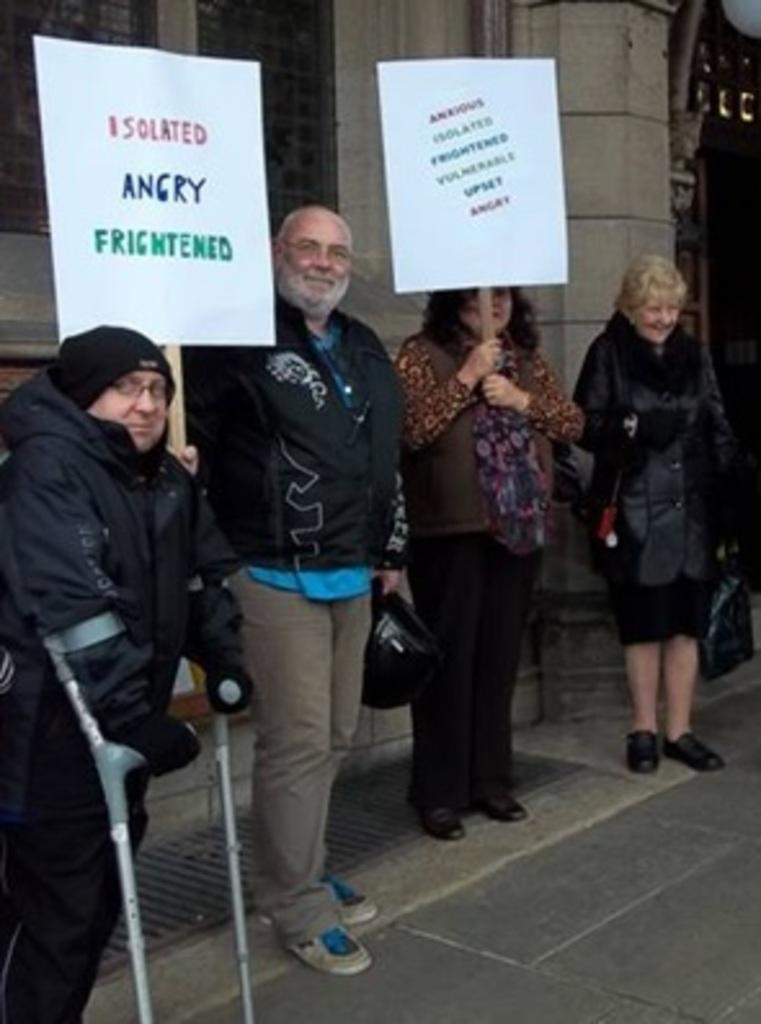crutches: (0, 316, 268, 1024)
